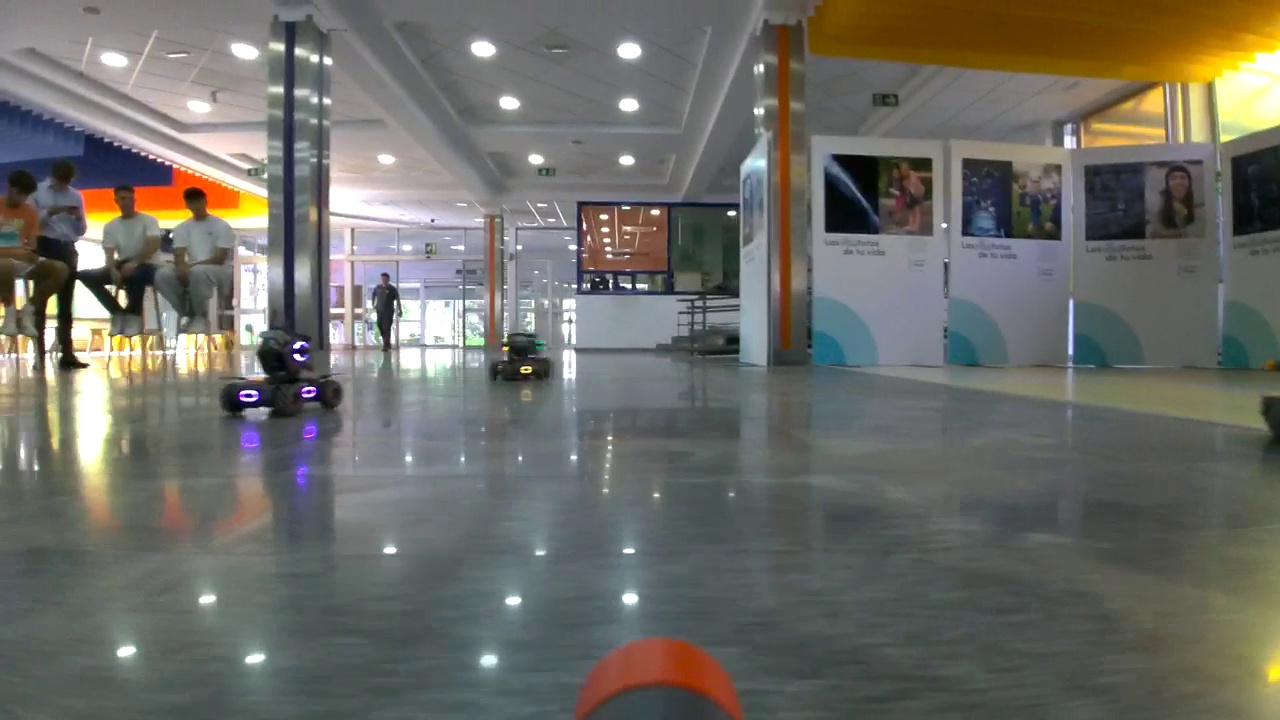robot: (221, 328, 346, 416), (487, 335, 555, 389), (1256, 354, 1280, 448)
